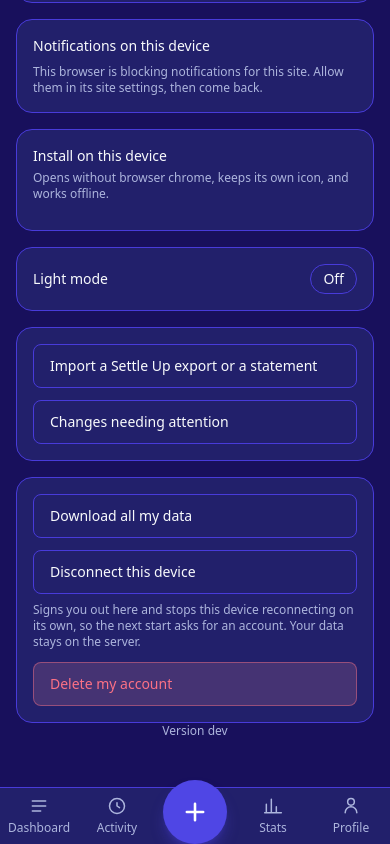
the profile settings › asks for confirmation before deleting the account
Step 1. Click the button "Delete my account" → (111, 684), box [33,662,357,706]
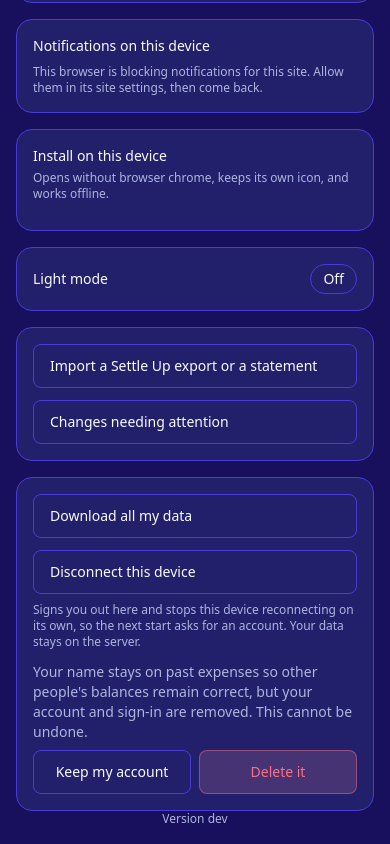
Check: the text "Your name stays on past expenses" is shown, box [33,662,352,741]
